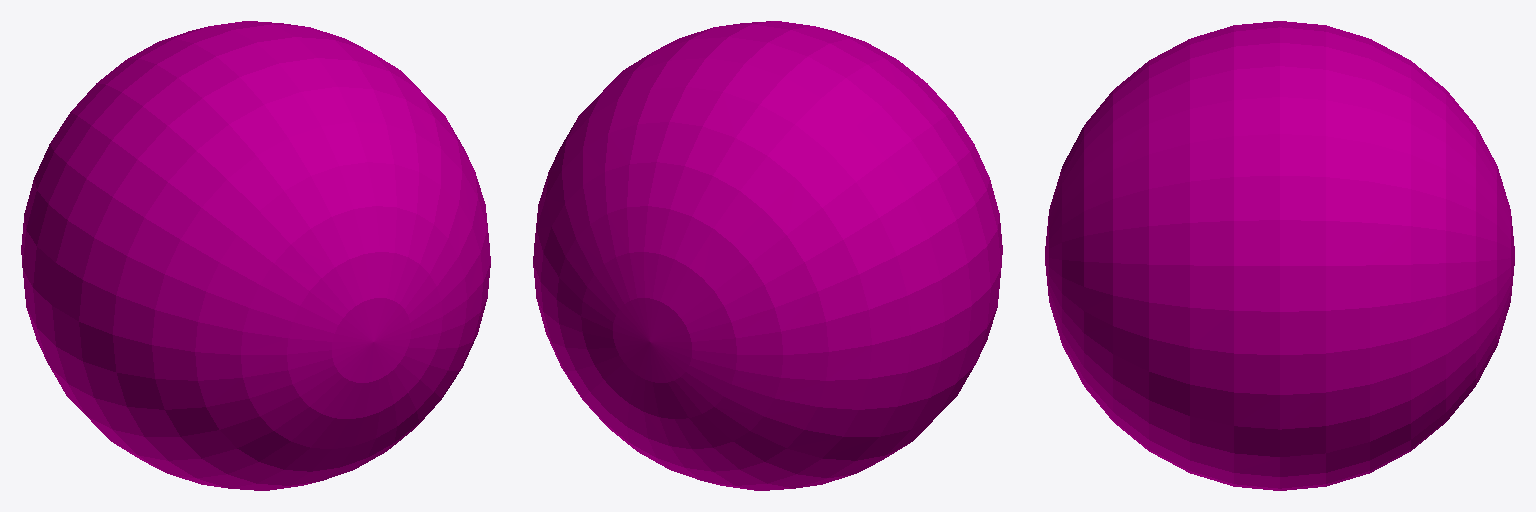
Rendered from Player.obj.
The picture shows the model from 3 angles: view 1: azimuth 30°, elevation 25°; view 2: azimuth 150°, elevation 25°; view 3: azimuth 270°, elevation 25°; orthographic projection.
Parts seen in each view (by area): view 1: Player; view 2: Player; view 3: Player.
Boxes of the visible parts, x1=… form: Player: x1=21, y1=21, x2=490, y2=490; Player: x1=533, y1=21, x2=1002, y2=490; Player: x1=1045, y1=21, x2=1514, y2=490.
Size of the model in its own units: 0.5323 by 0.5323 by 0.5323.